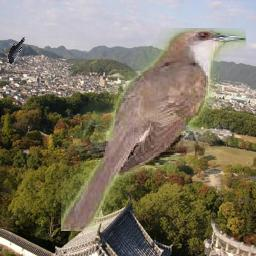Crow: (7, 36, 26, 64)
Cuckoo: (62, 29, 247, 232)
